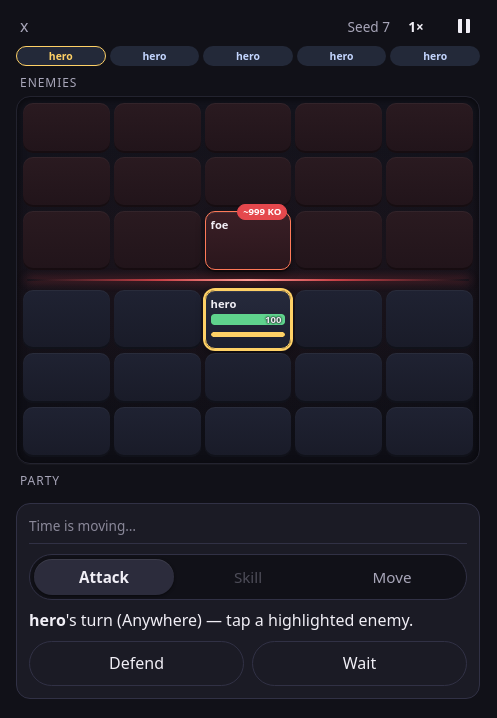
Test case: BattleScreen › given a host without a second button, when the battle is won, then only its won button shows
Expected: the element named "Action" is shown, [29,554,467,600]
Click the cell named "Attack foe".
click(248, 240)  # box [205,211,291,270]
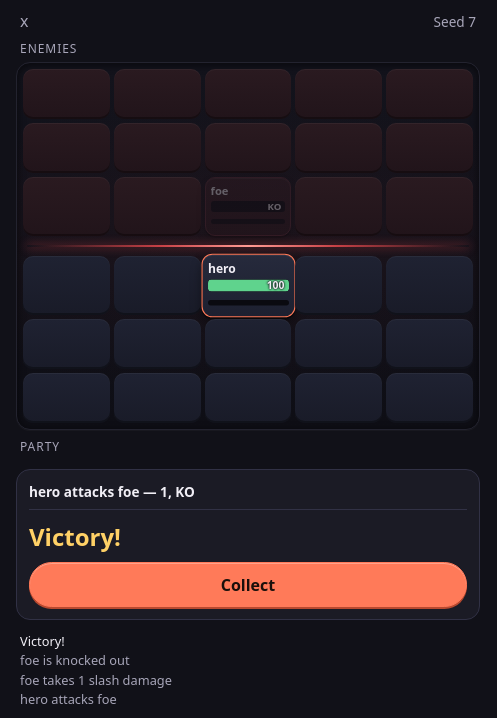
Result: the button "Collect" is shown at [29,562,467,607]
